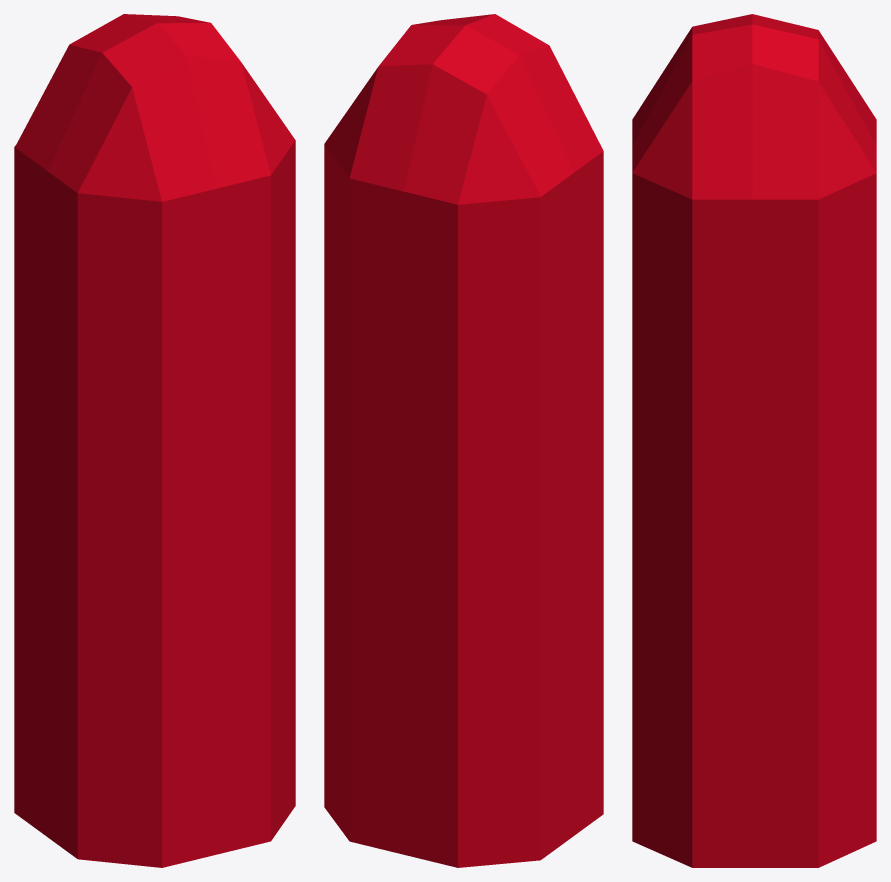
File: bullet.glb
3 renders of one model, left to right at view 1: azimuth 30°, elevation 25°; view 2: azimuth 150°, elevation 25°; view 3: azimuth 270°, elevation 25°, orthographic.
Parts seen in each view (by area): view 1: Cube_0; view 2: Cube_0; view 3: Cube_0.
Part boxes in pixels (x1=…): Cube_0: x1=14, y1=14, x2=295, y2=867; Cube_0: x1=324, y1=14, x2=603, y2=867; Cube_0: x1=632, y1=14, x2=876, y2=867.
Bounding box in the file's own units: 0.4774 × 1.65 × 0.4627.
